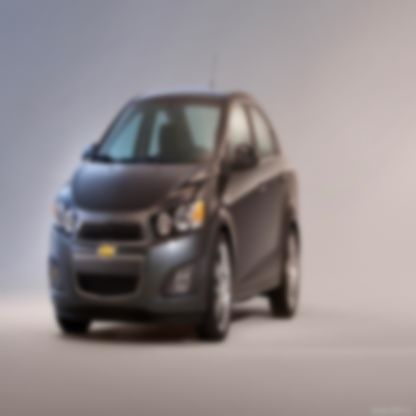Vehicle: (49, 54, 301, 341)
